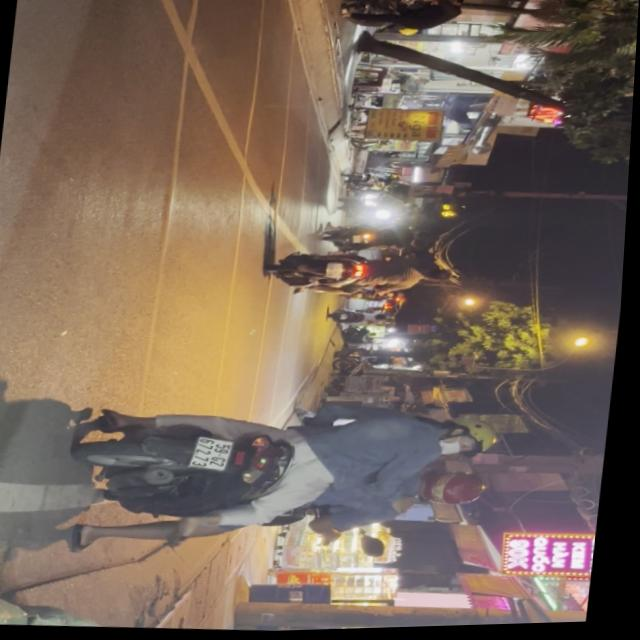helmet: (415, 463, 505, 513), (433, 412, 505, 466)
licenseplate: (62, 385, 523, 566)
nohelmet: (197, 437, 238, 472)
